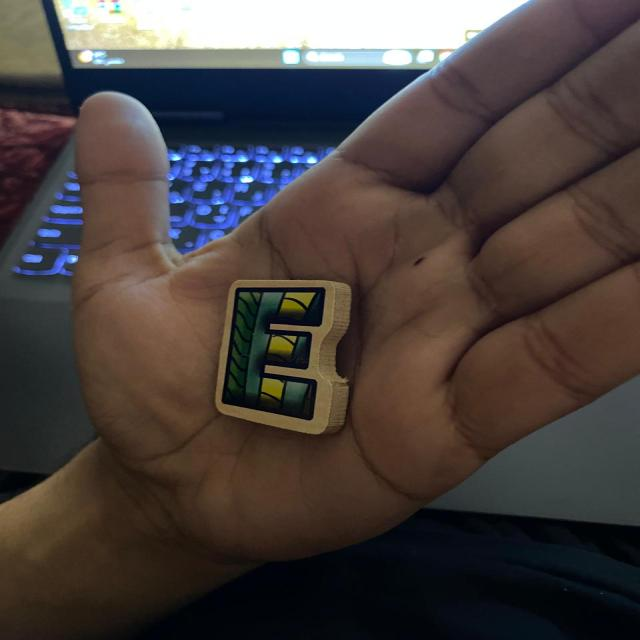E: (216, 281, 350, 434)
